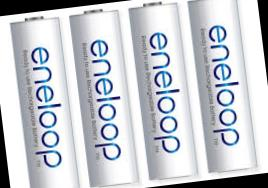battery: (177, 0, 268, 180), (60, 1, 146, 188), (120, 0, 205, 186), (0, 7, 87, 188)
